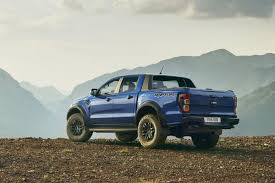Vehicle: (63, 71, 240, 151)
